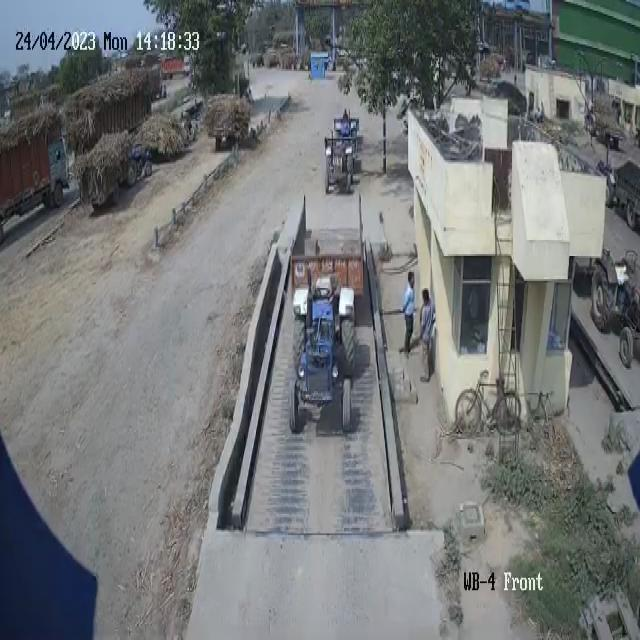Tratores - v5 YOLO V8L 2024-11-13: (283, 276, 365, 452), (592, 234, 640, 379), (322, 124, 357, 206), (120, 128, 156, 192)
